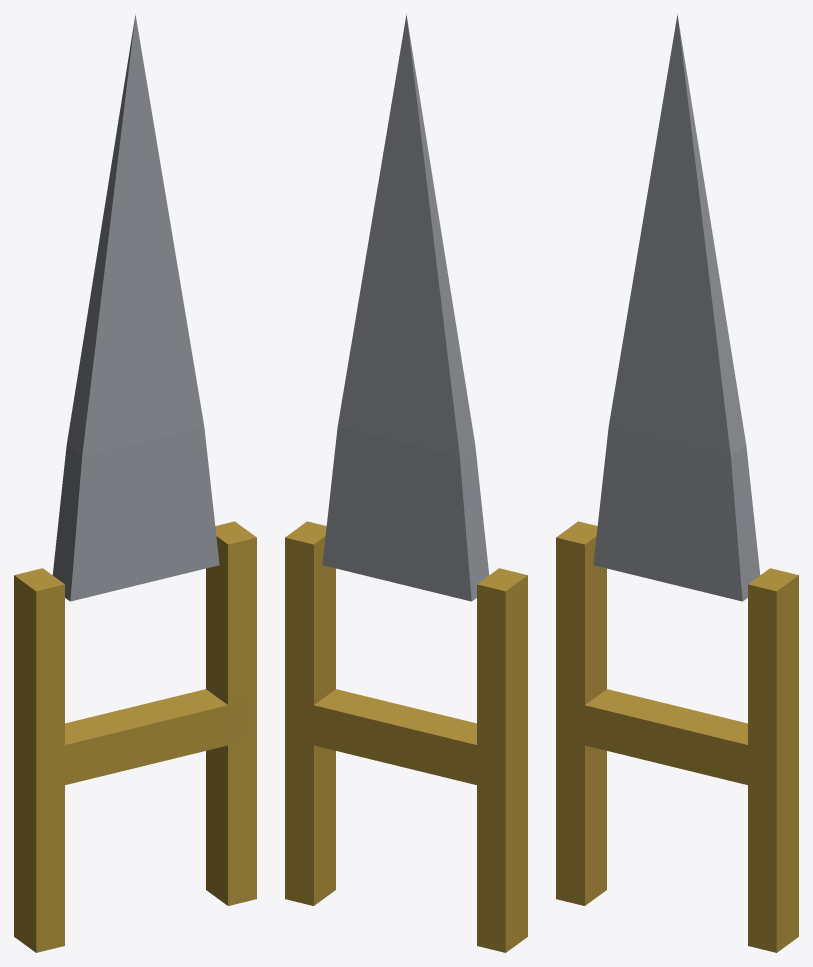
Rendered from weapon_twin_khopesh.glb.
3 views of the same model, side by side, from view 1: azimuth 30°, elevation 25°; view 2: azimuth 150°, elevation 25°; view 3: azimuth 330°, elevation 25° (orthographic).
Parts seen in each view (by area): view 1: cat_weapon_twin_khopesh; view 2: cat_weapon_twin_khopesh; view 3: cat_weapon_twin_khopesh.
Part boxes in pixels (bbox=[...]): cat_weapon_twin_khopesh: bbox=[14, 14, 256, 952]; cat_weapon_twin_khopesh: bbox=[285, 14, 527, 952]; cat_weapon_twin_khopesh: bbox=[556, 14, 798, 952].
Size of the model in its own units: 0.138 by 0.54 by 0.024.
